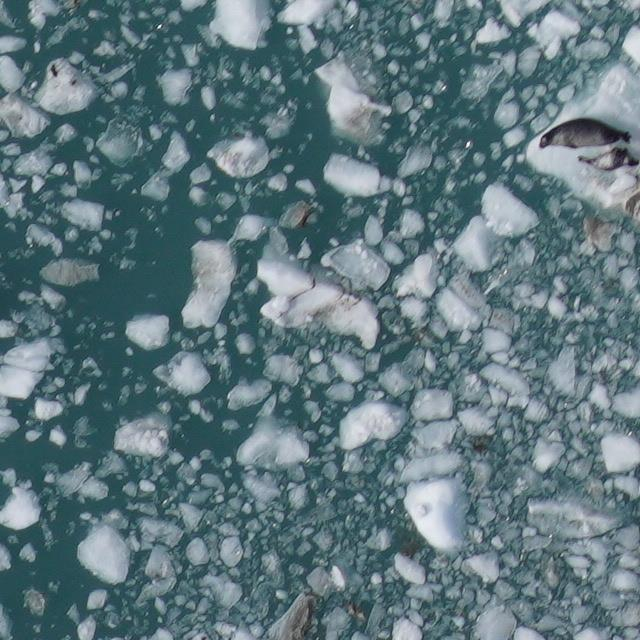seal: (534, 114, 632, 152)
